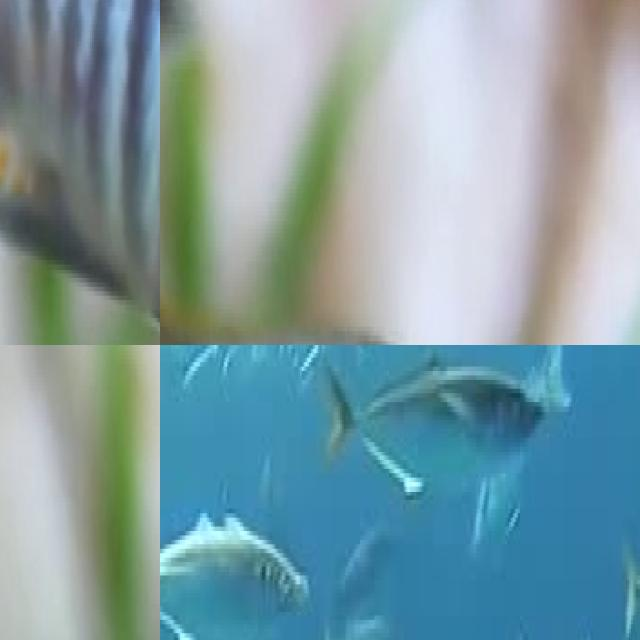fish: (0, 0, 160, 345), (160, 246, 598, 345)
